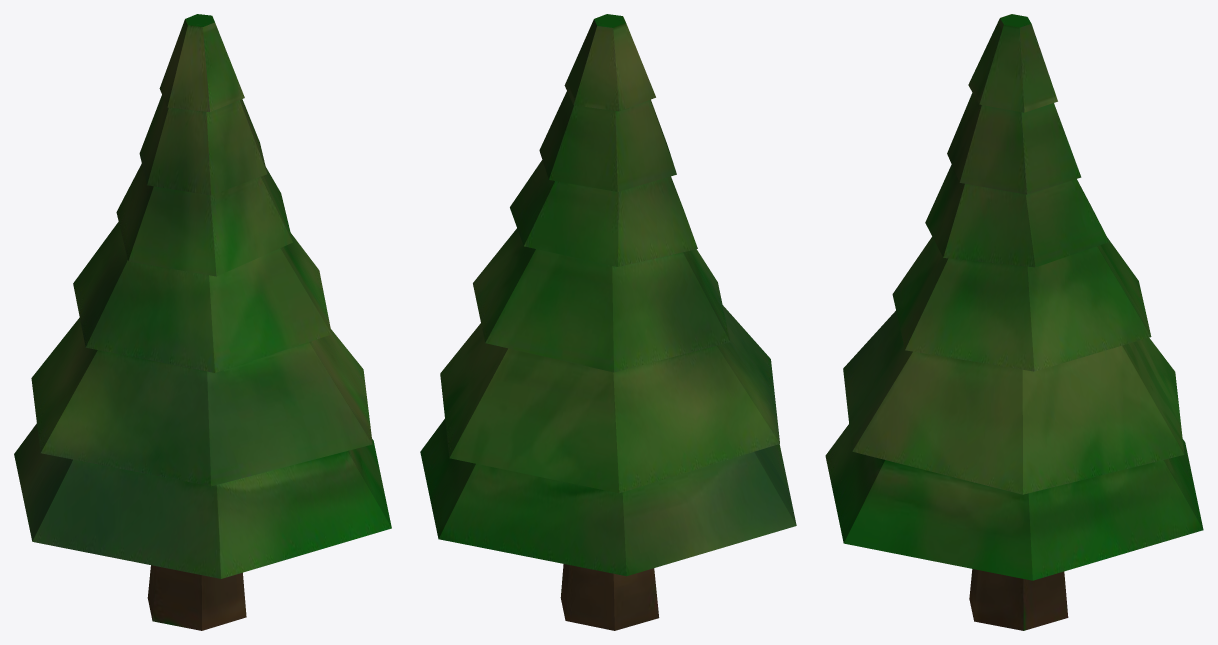
The model's file is Hackaton_Tree.fbx.
3 renders of one model, left to right at view 1: azimuth 30°, elevation 25°; view 2: azimuth 150°, elevation 25°; view 3: azimuth 270°, elevation 25°, orthographic.
Parts seen in each view (by area): view 1: ChristmasTree12; view 2: ChristmasTree12; view 3: ChristmasTree12.
Part boxes in pixels (bbox=[...]): ChristmasTree12: bbox=[14, 14, 391, 630]; ChristmasTree12: bbox=[420, 14, 796, 630]; ChristmasTree12: bbox=[825, 14, 1203, 630].
Size of the model in its own units: 248 by 388 by 226.
